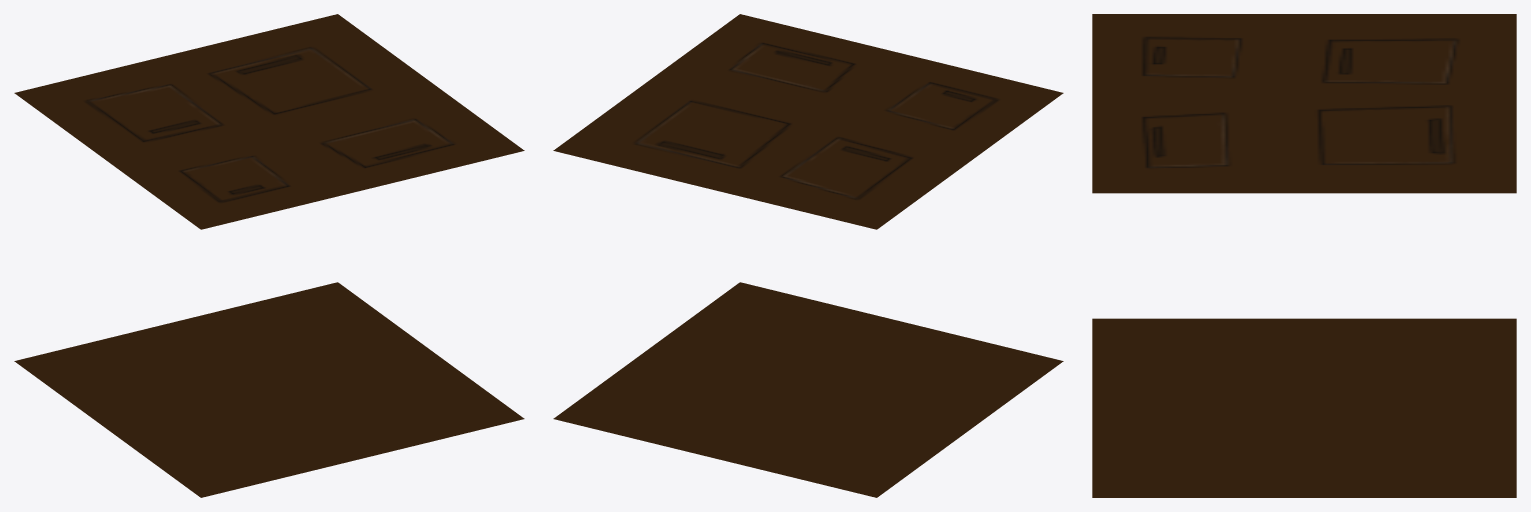
Rendered from Floor.fbx.
The picture shows the model from 3 angles, left to right: view 1: azimuth 30°, elevation 25°; view 2: azimuth 150°, elevation 25°; view 3: azimuth 270°, elevation 25°; orthographic projection. The views are drawn at different scales.
Parts seen in each view (by area): view 1: Floor; view 2: Floor; view 3: Floor.
Boxes of the visible parts, x1,y1,x2,y2 form: Floor: [14, 14, 524, 497]; Floor: [553, 14, 1063, 497]; Floor: [1092, 14, 1516, 497].
Bounding box in the file's own units: 4 × 3.17 × 4.
